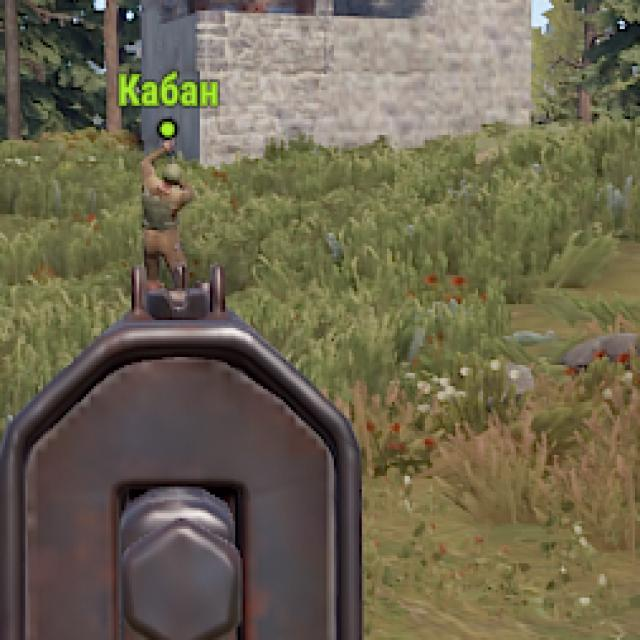Player: (139, 155, 191, 263)
